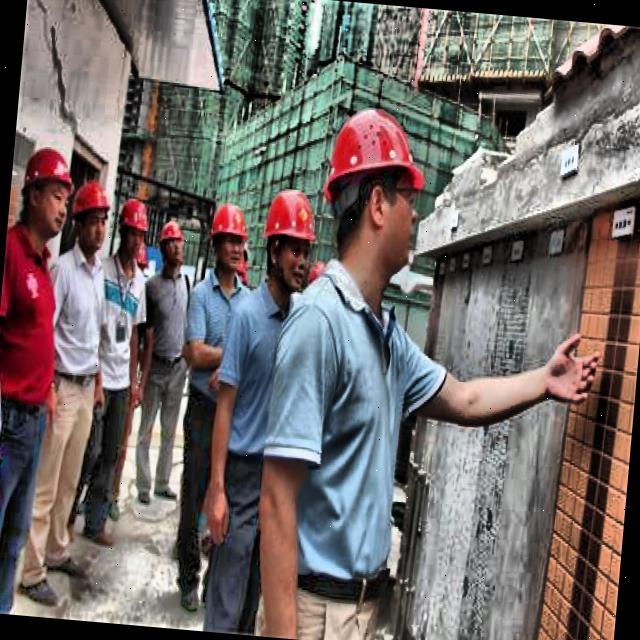helmet: (322, 100, 424, 280), (257, 186, 316, 294), (18, 140, 77, 236), (203, 200, 249, 284), (71, 177, 114, 254), (115, 196, 152, 266), (154, 214, 188, 274)
